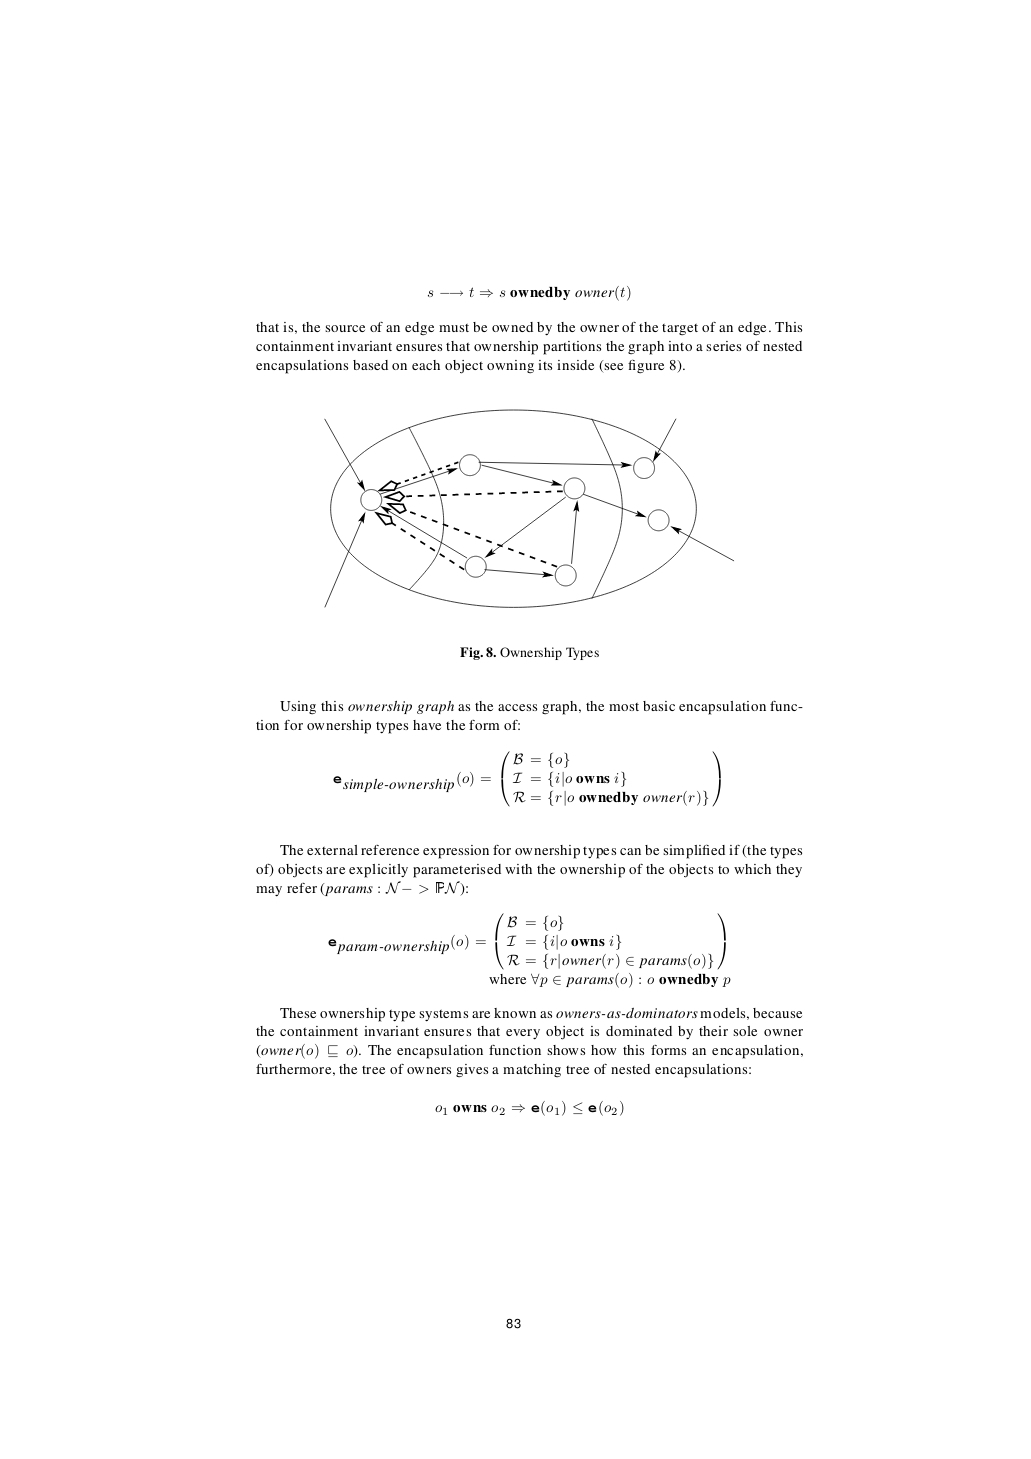figure: (324, 408, 733, 608)
formula: (328, 912, 725, 970), (333, 750, 720, 806), (256, 862, 801, 897), (435, 1099, 623, 1115)
